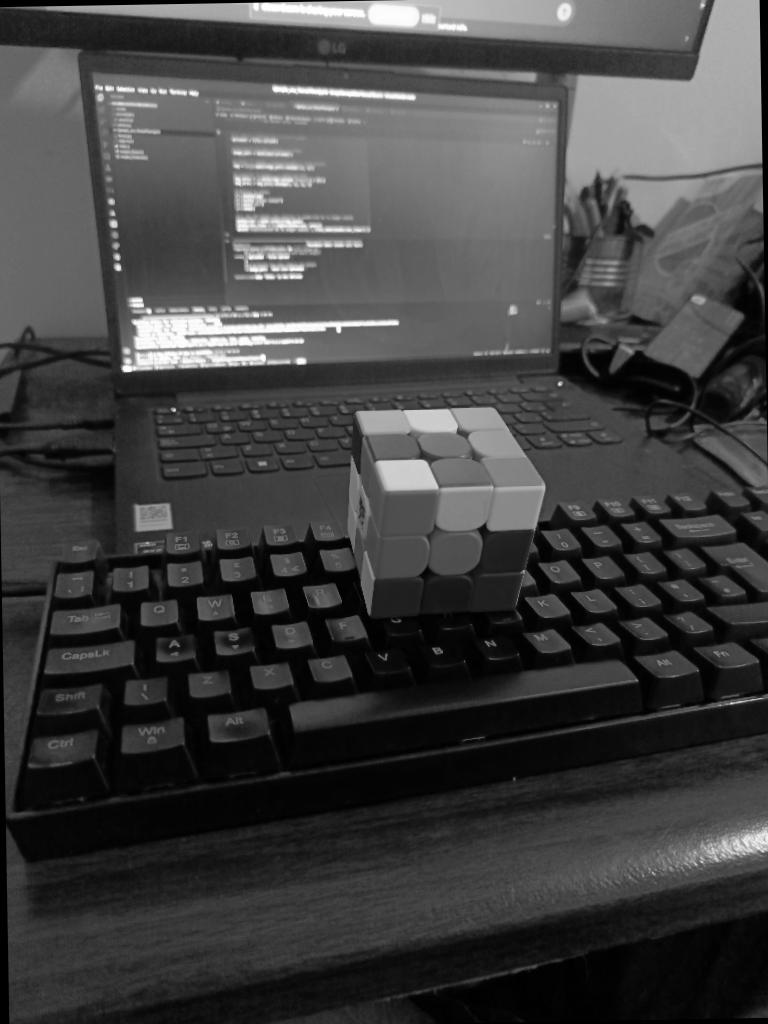rubik: (342, 402, 548, 618)
